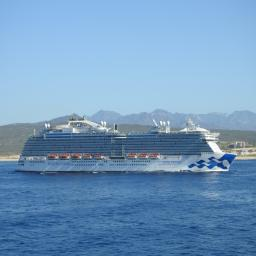cruises: (18, 118, 242, 175)
